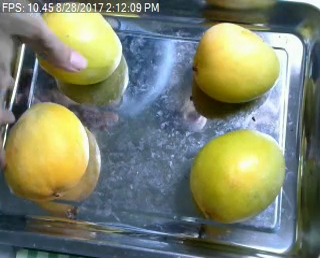Mango: (191, 130, 287, 224), (4, 100, 90, 201), (29, 3, 121, 83), (193, 24, 280, 101)
